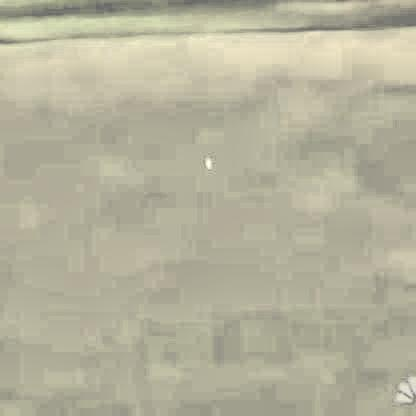golfball: (202, 152, 212, 165)
